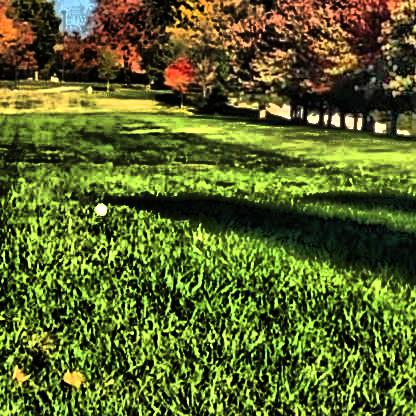golfball: (91, 201, 106, 213)
